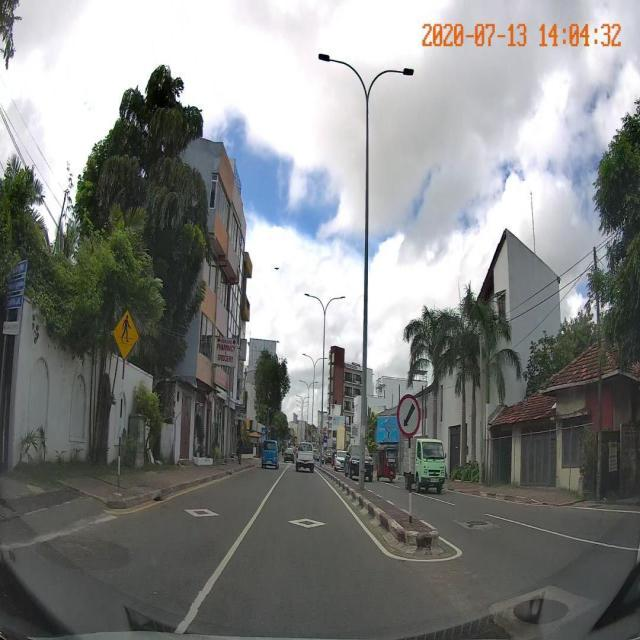Liniya 1: (170, 468, 287, 632), (315, 470, 396, 561)
Romb: (287, 515, 324, 531), (185, 505, 215, 519)
